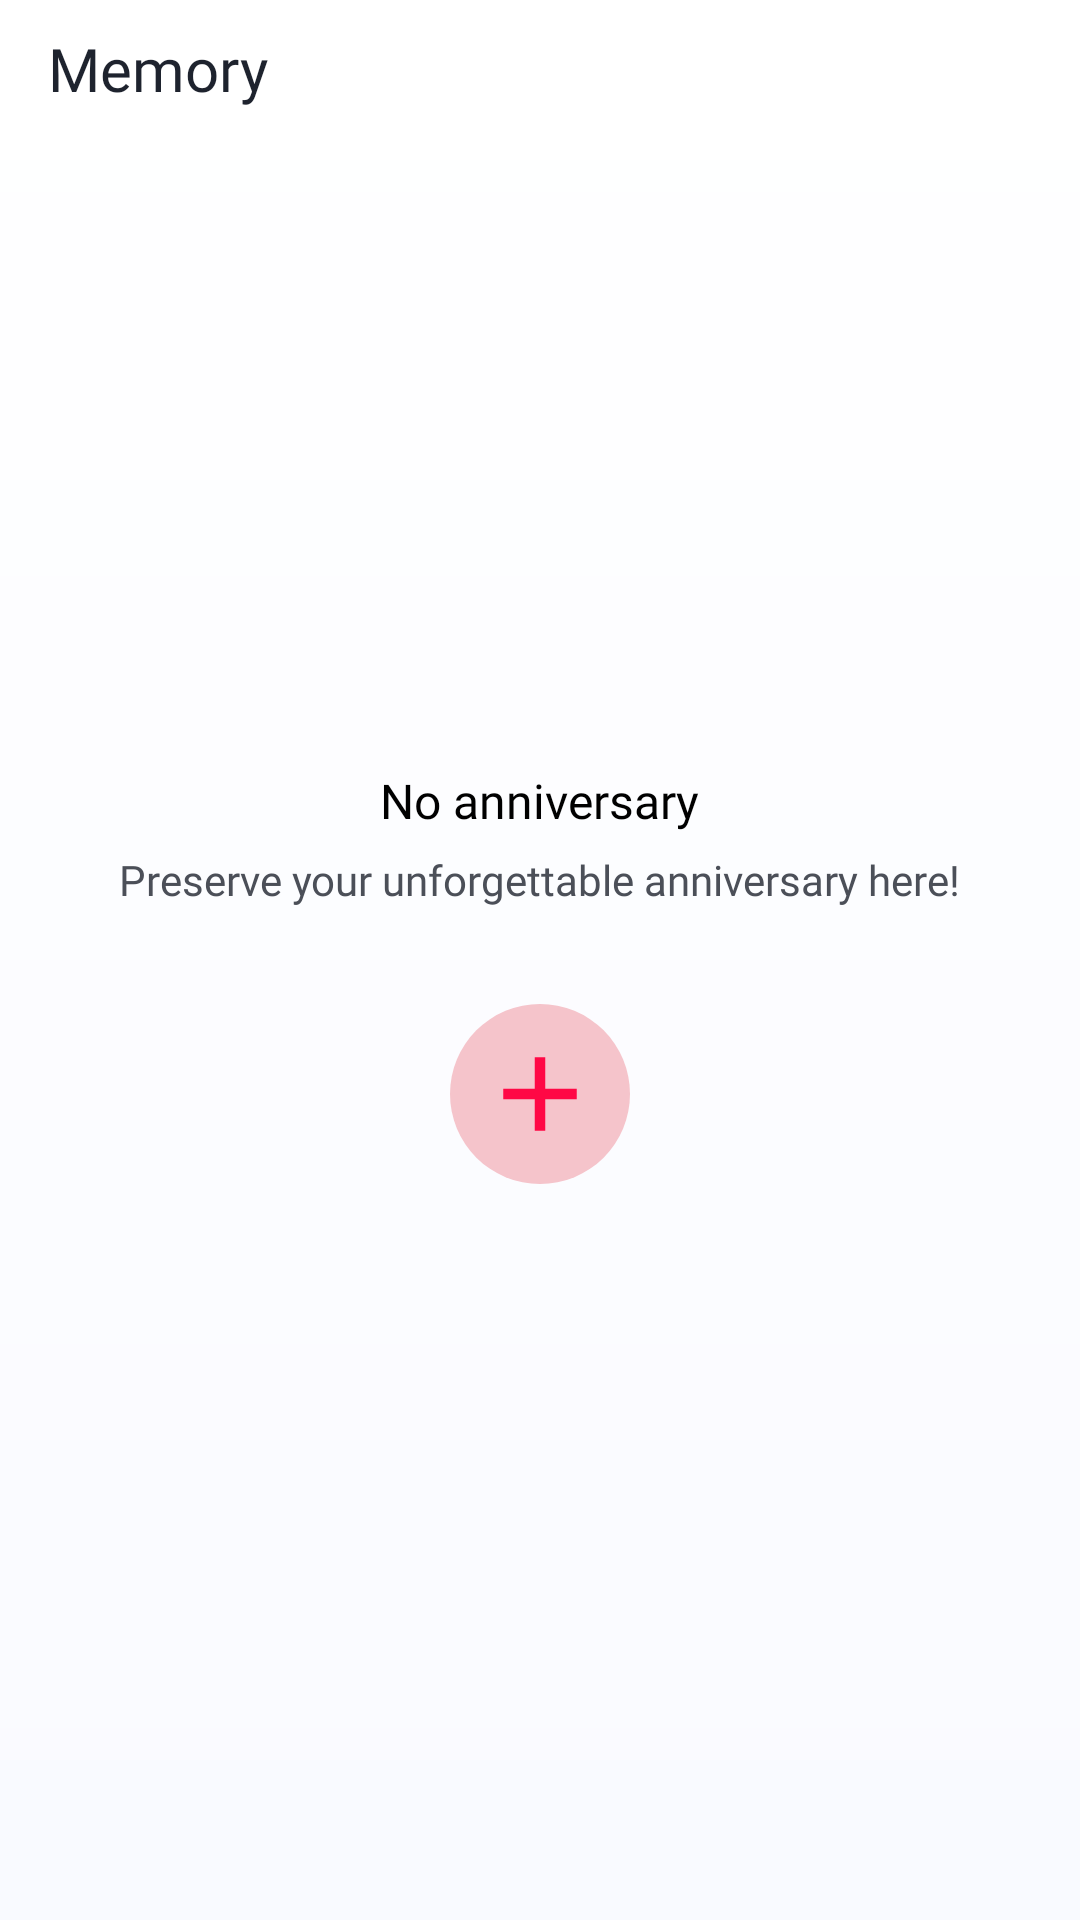

Screen size 1080w x 1920h. Icon name, then its box in pixels as Rect(x1, y1, x2, y2):
Add memory: Rect(450, 1004, 630, 1184)
